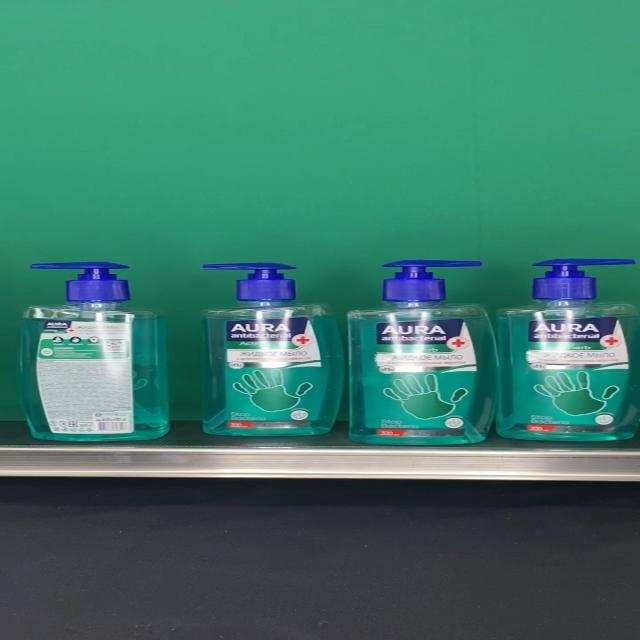Bottle: (347, 261, 498, 445), (19, 262, 170, 441), (497, 257, 640, 442), (201, 262, 345, 436)
Cap: (533, 257, 635, 301), (382, 261, 484, 303), (28, 262, 128, 302), (202, 262, 297, 300)
